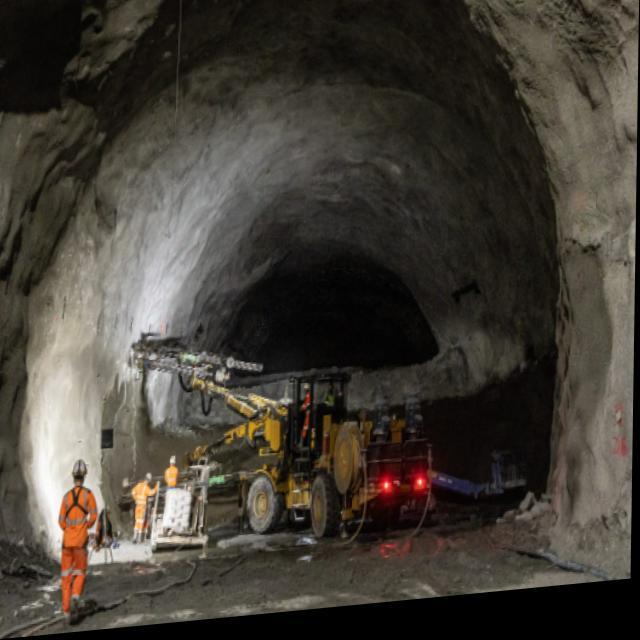hard_hat: (71, 456, 89, 487), (143, 471, 153, 483), (170, 452, 178, 467), (304, 382, 310, 392)
vest: (60, 485, 93, 554), (134, 479, 148, 508), (167, 467, 176, 487), (305, 390, 311, 411), (327, 395, 336, 408)
